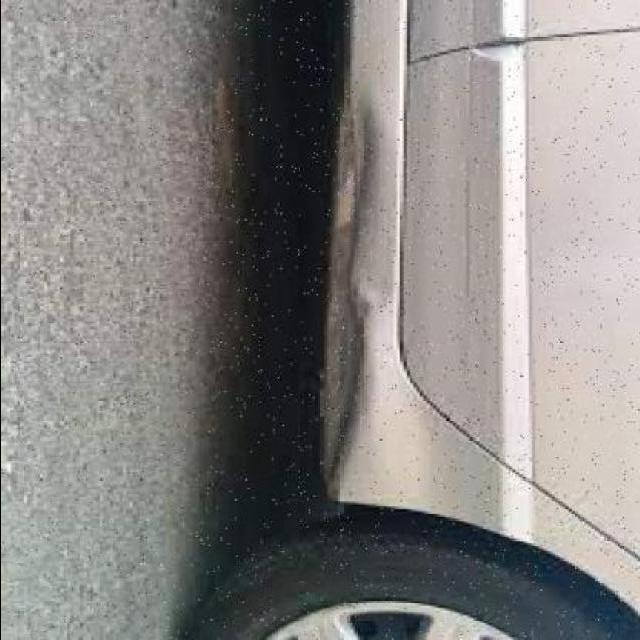RunningBoard-Dent: (309, 97, 398, 513)
